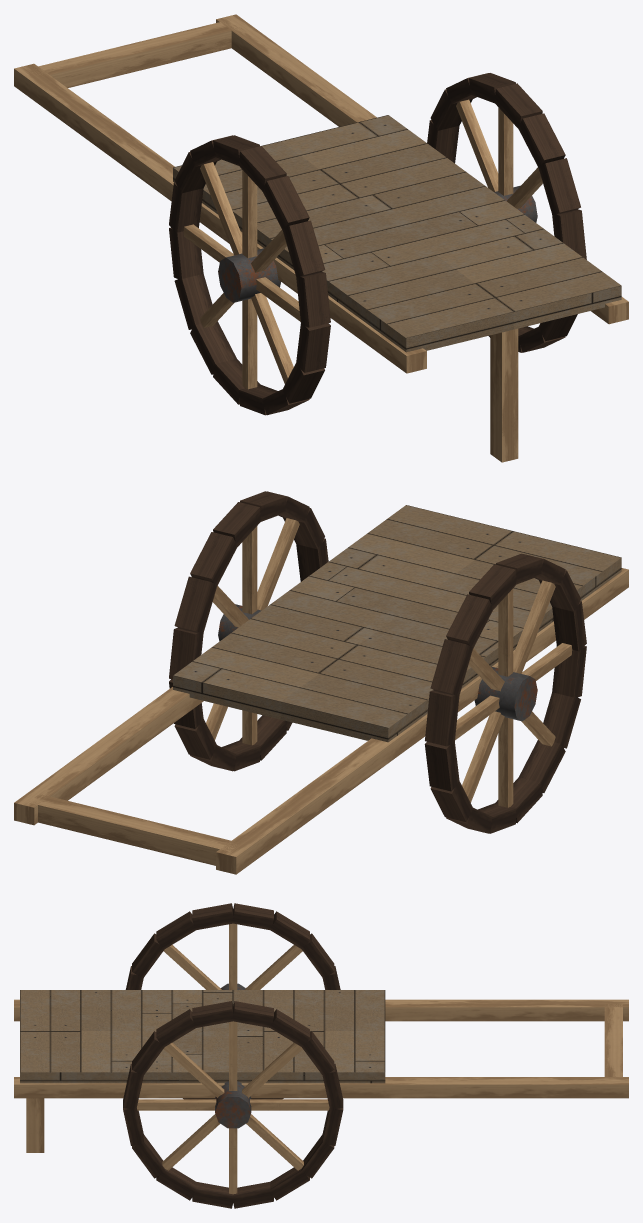
File: HO_Prop_Cart.fbx
3 views of the same model, one above another, from view 1: azimuth 30°, elevation 25°; view 2: azimuth 150°, elevation 25°; view 3: azimuth 270°, elevation 25° (orthographic). The views are drawn at different scales.
Visible parts, largest first — view 1: HO_Prop_Cart__Wood_Planks, HO_Prop_Cart__Timber_Light, HO_Prop_Cart__Timber_Dark, HO_Prop_Cart__Iron_Wrought; view 2: HO_Prop_Cart__Wood_Planks, HO_Prop_Cart__Timber_Light, HO_Prop_Cart__Timber_Dark, HO_Prop_Cart__Iron_Wrought; view 3: HO_Prop_Cart__Wood_Planks, HO_Prop_Cart__Timber_Light, HO_Prop_Cart__Timber_Dark, HO_Prop_Cart__Iron_Wrought.
Boxes of the visible parts, box(x1,y1,x2,y2) form: HO_Prop_Cart__Wood_Planks: box(173, 115, 621, 352); HO_Prop_Cart__Timber_Light: box(14, 14, 628, 462); HO_Prop_Cart__Timber_Dark: box(169, 73, 586, 415); HO_Prop_Cart__Iron_Wrought: box(218, 185, 537, 302); HO_Prop_Cart__Wood_Planks: box(173, 505, 621, 742); HO_Prop_Cart__Timber_Light: box(14, 518, 628, 874); HO_Prop_Cart__Timber_Dark: box(169, 491, 586, 833); HO_Prop_Cart__Iron_Wrought: box(218, 604, 537, 721); HO_Prop_Cart__Wood_Planks: box(20, 990, 385, 1083); HO_Prop_Cart__Timber_Light: box(14, 923, 628, 1194); HO_Prop_Cart__Timber_Dark: box(123, 903, 343, 1208); HO_Prop_Cart__Iron_Wrought: box(215, 983, 251, 1128).
Bounding box in the file's own units: 4.4 × 3.62 × 10.1.
